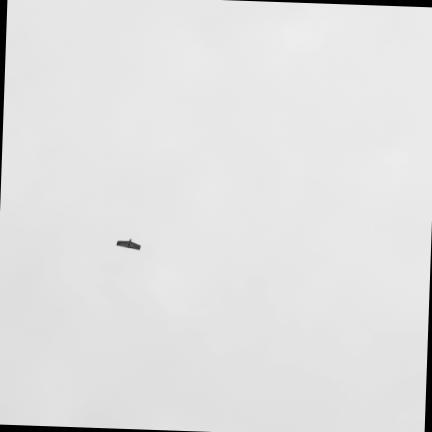Shahed: (117, 239, 140, 248)
